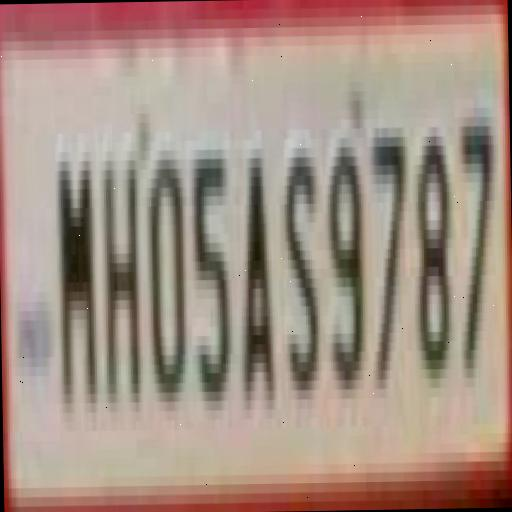number plate: (0, 0, 483, 478)
